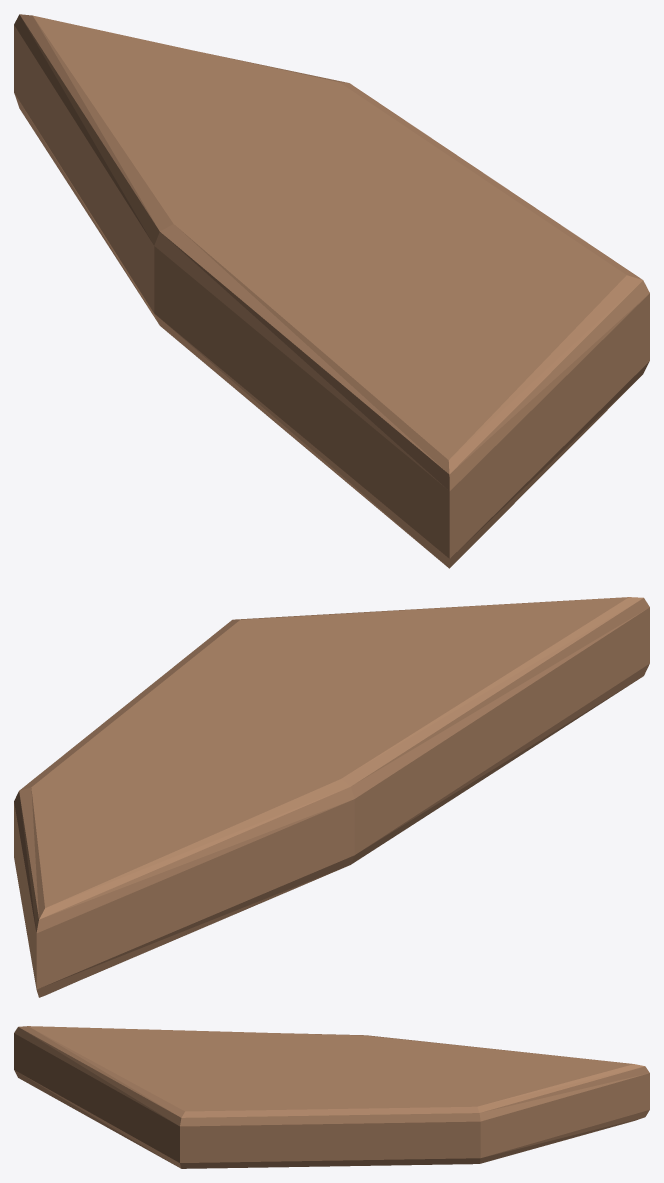
Rendered from survival-food-and-preservation-salted-fillet-106f2b78__21754.glb.
3 views of the same model, one above another, from view 1: azimuth 30°, elevation 25°; view 2: azimuth 150°, elevation 25°; view 3: azimuth 270°, elevation 25° (orthographic). The views are drawn at different scales.
Parts seen in each view (by area): view 1: salted-fillet; view 2: salted-fillet; view 3: salted-fillet.
Part boxes in pixels (x1,y1,x2,y2): salted-fillet: [14, 14, 649, 568]; salted-fillet: [14, 597, 649, 997]; salted-fillet: [14, 1026, 649, 1168].
Bounding box in the file's own units: 0.0984 × 0.028 × 0.2832.
